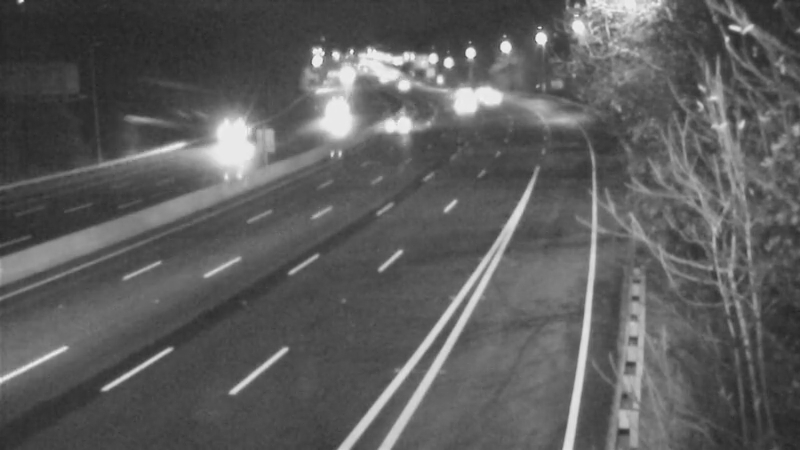vehicle: (378, 60, 428, 110), (467, 71, 517, 121), (437, 80, 487, 130), (366, 99, 416, 149), (211, 115, 261, 165), (308, 93, 358, 143)
